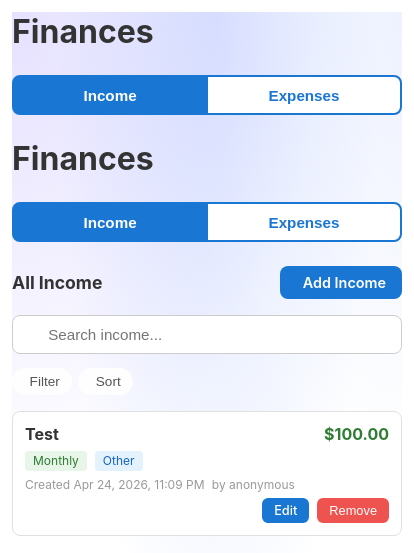
Scenario: FinancesView › shows no-match message when income search has no results
Type "zzzznotfound" into the field with class "search-input".
click(207, 334); type("zzzznotfound")  # box [12, 315, 402, 354]
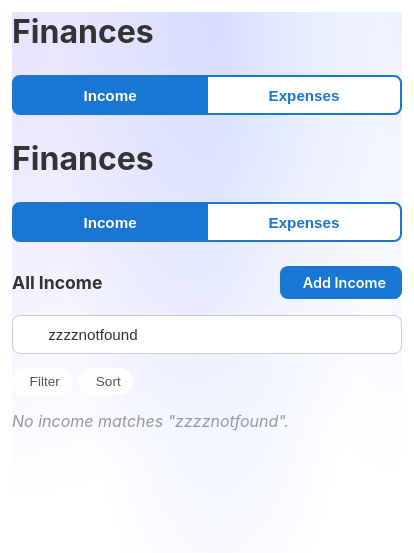
Expected: the text "No income matches \"zzzznotfound\"" is shown, [12, 412, 289, 432]
